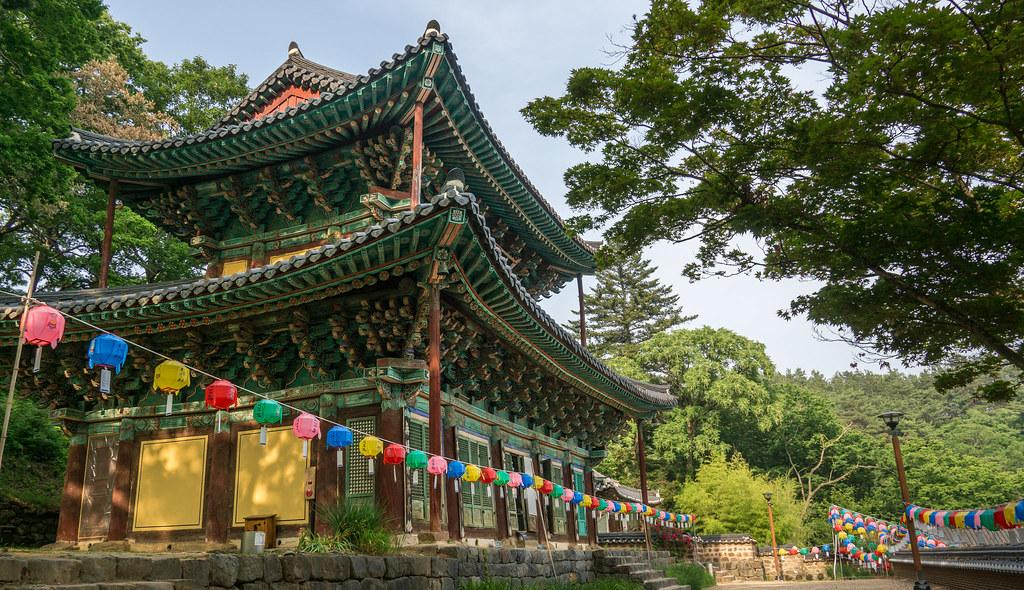temple: (3, 19, 691, 558)
